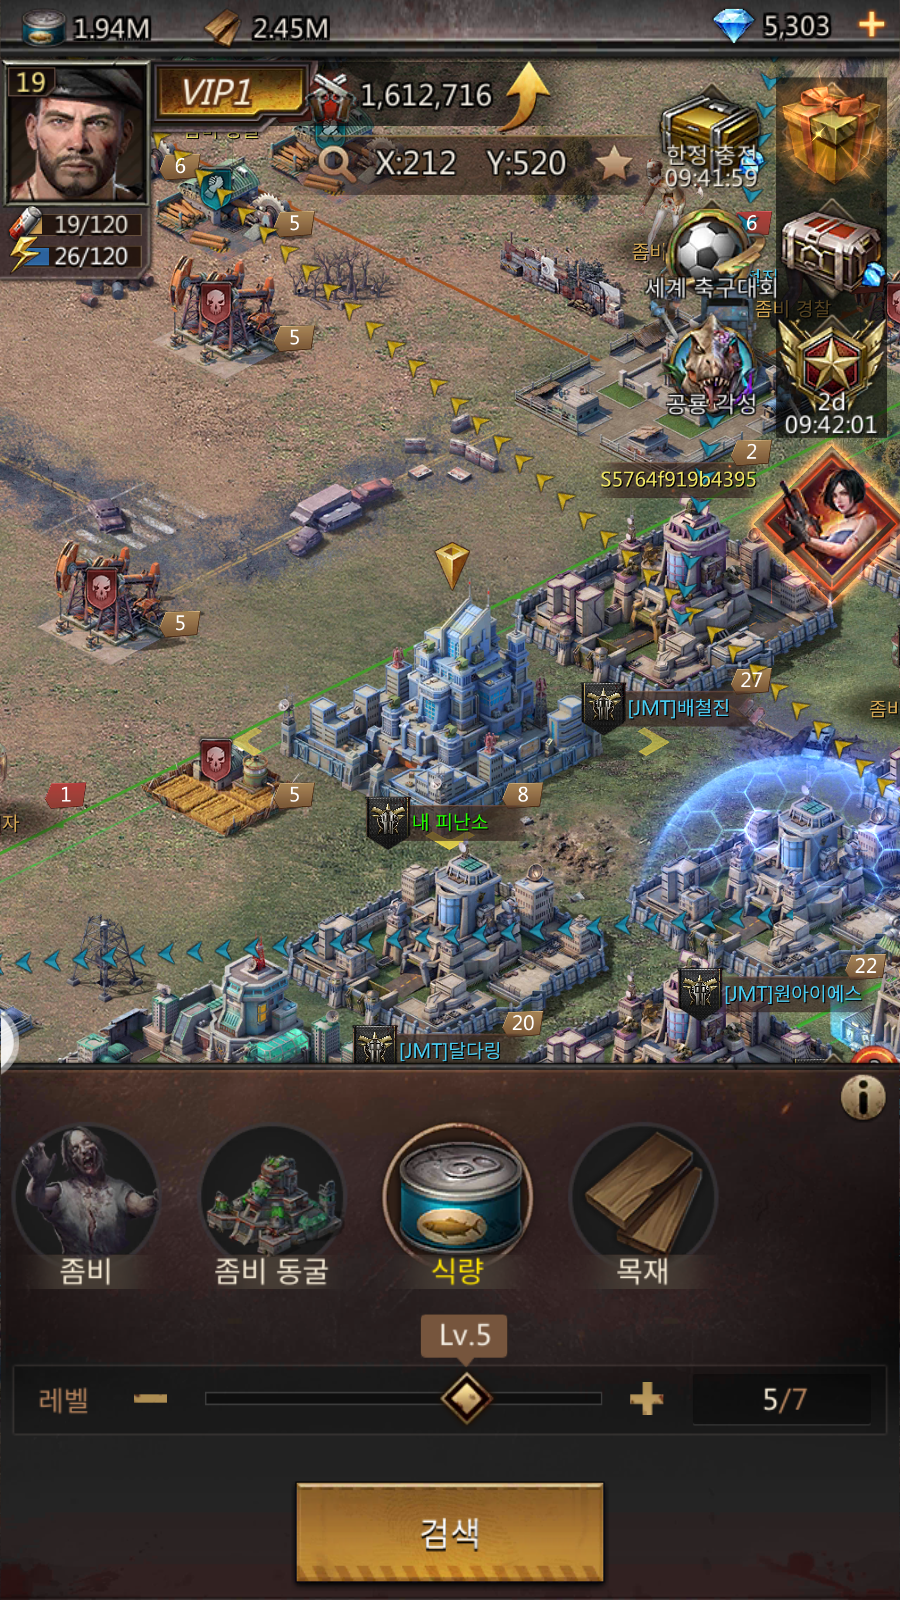rss_food_in_panel: (381, 1119, 542, 1291)
rss_lv5: (419, 1315, 509, 1359)
rss_minus_in_panel: (117, 1366, 185, 1425)
rss_plus_in_panel: (617, 1364, 678, 1432)
rss_search_in_panel: (293, 1483, 603, 1574)
rss_wood_in_panel: (573, 1127, 719, 1290)
